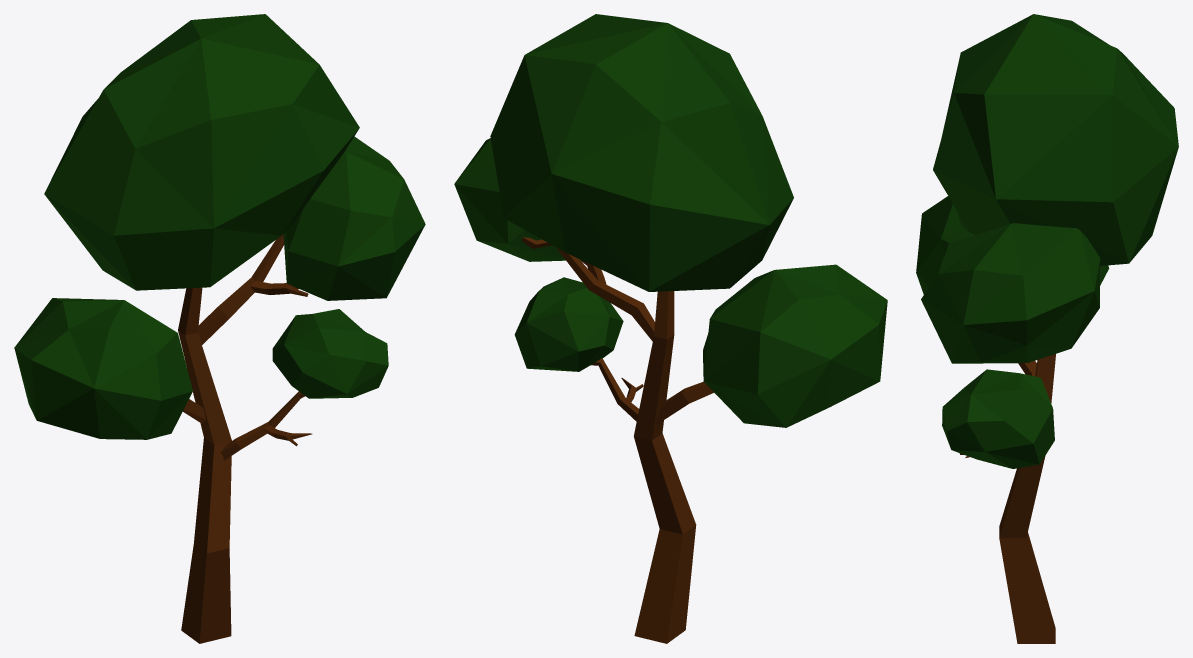
File: treeA_textured.fbx
The picture shows the model from 3 angles, left to right: view 1: azimuth 30°, elevation 25°; view 2: azimuth 150°, elevation 25°; view 3: azimuth 270°, elevation 25°; orthographic projection. The views are drawn at different scales.
Visible parts, largest first — view 1: leaves, branches; view 2: leaves, branches; view 3: leaves, branches.
Boxes of the visible parts, bbox=[...] form: leaves: bbox=[14, 14, 425, 439]; branches: bbox=[178, 234, 312, 643]; leaves: bbox=[454, 14, 887, 427]; branches: bbox=[522, 237, 713, 643]; leaves: bbox=[916, 14, 1178, 468]; branches: bbox=[959, 354, 1055, 643].
Bounding box in the file's own units: 13.33 × 19.46 × 7.49.
